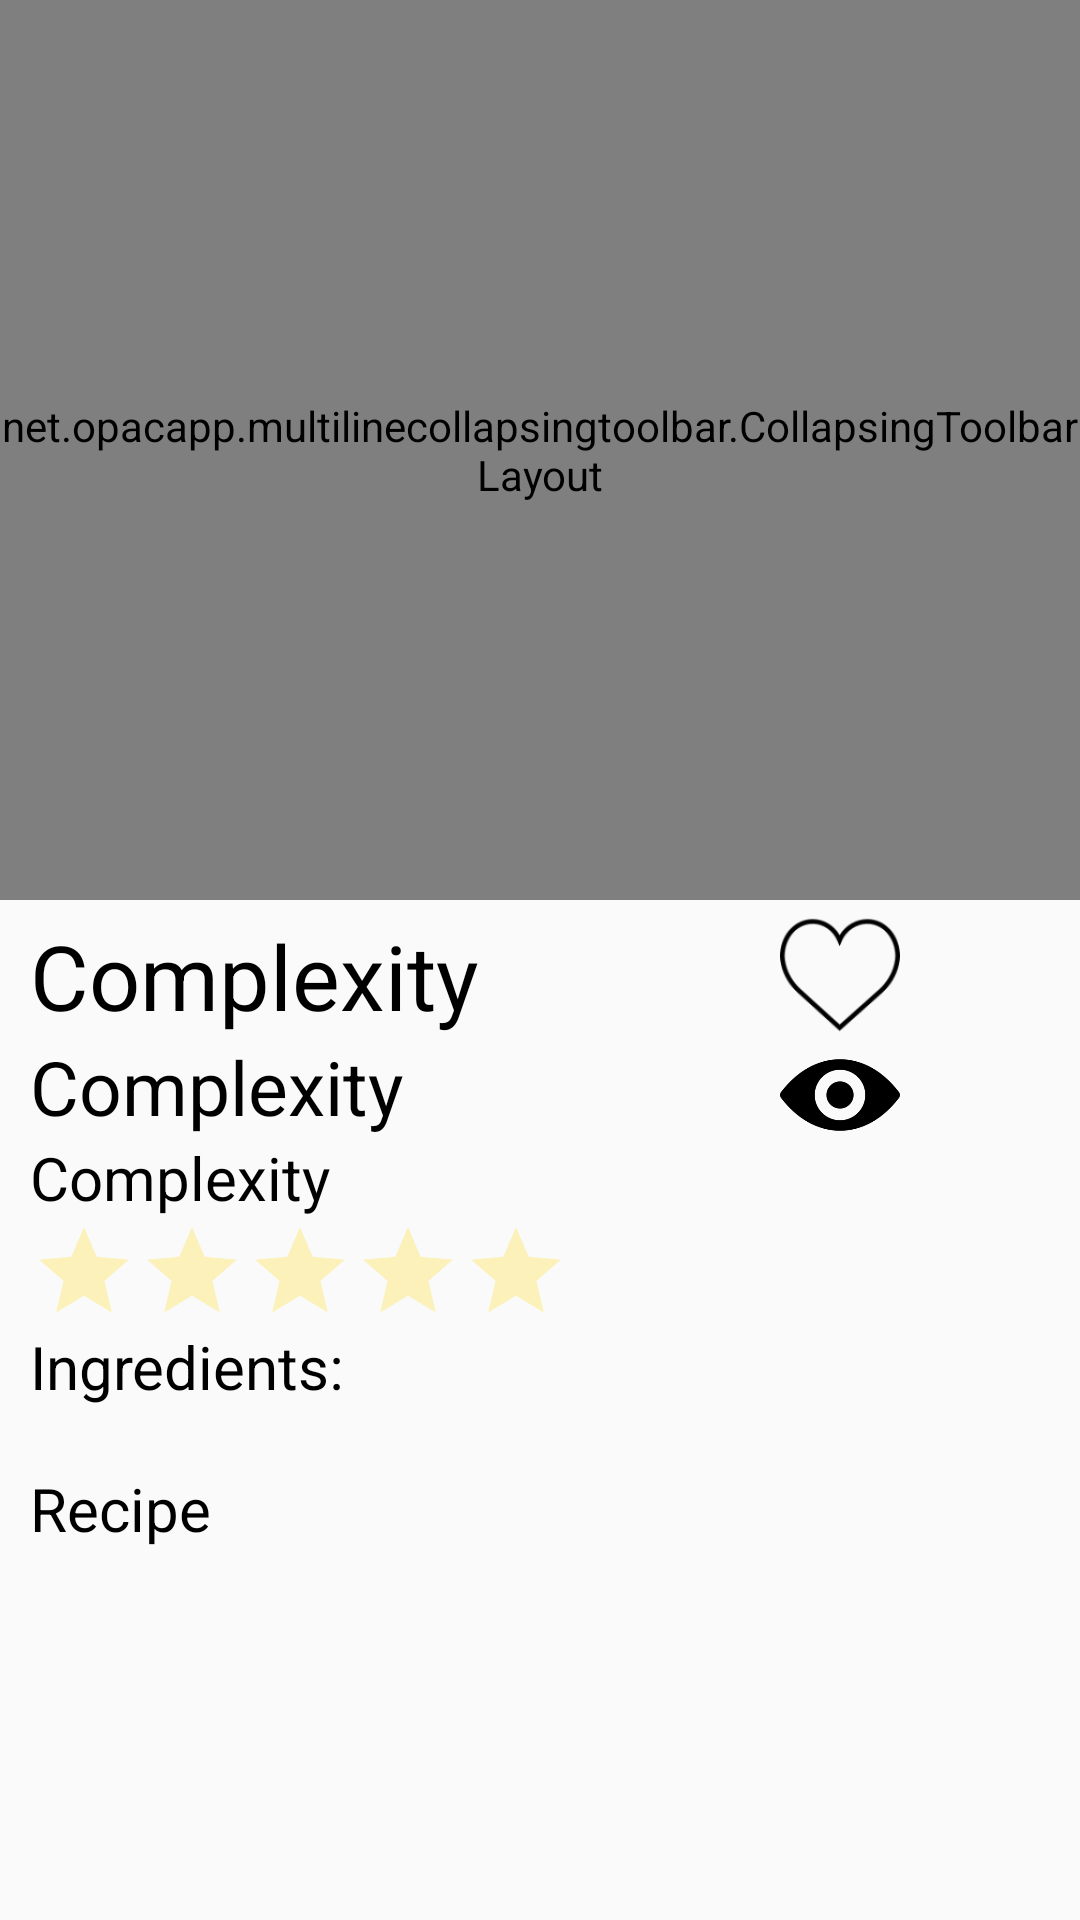

Icons on this 1080 × 1920 Android screen, each with its box as (x1, y1, x2, y2):
eye: (780, 1059, 900, 1131)
like: (780, 918, 900, 1031)
